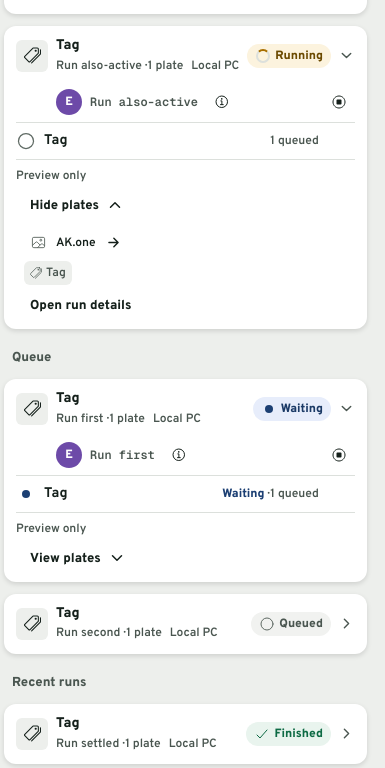
Test case: the drawer groups running, queued and finished runs, and marks worker pickup as waiting
This screenshot has width=385, height=768.
(page scrolled)
expect the button "Tag Run first · 1 plate Local PC Waiting" is shown: met, box [4,379,367,439]
expect the list item "Tag Waiting · 1 queued" is shown: met, box [22,485,319,502]
Click the button "Tag Run second · 1 plate Local PC Queued". click: (185, 624)
box: [4,594,367,654]
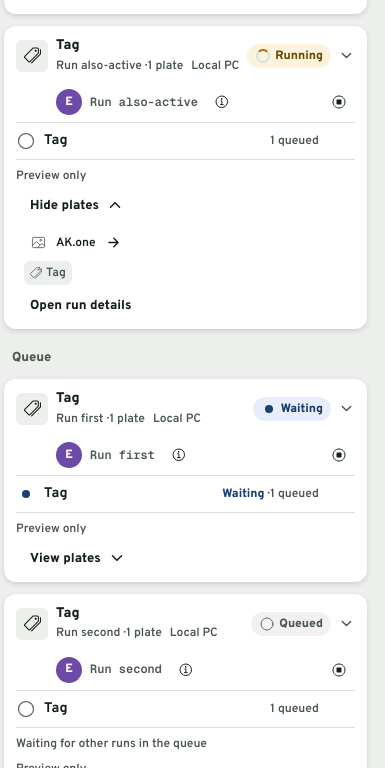
expect the text "Waiting for other runs in the queue" is shown: met, box [16,736,207,752]
